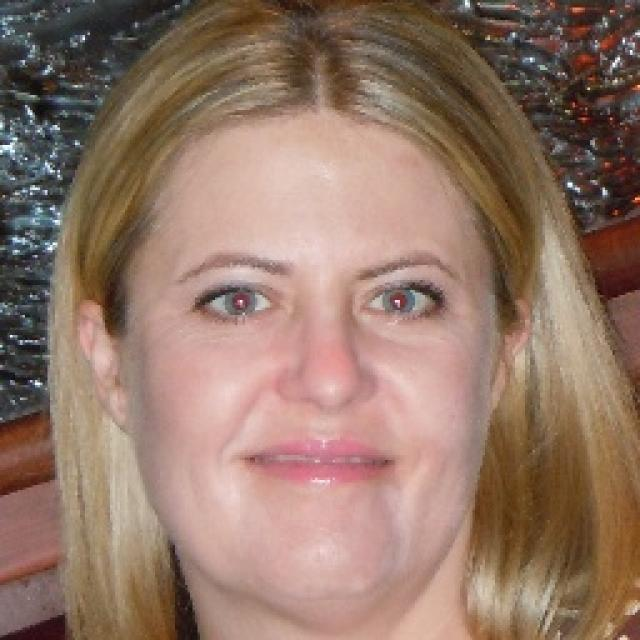earlobe: (98, 382, 133, 433), (487, 368, 509, 418)
eye: (193, 288, 277, 316), (370, 288, 448, 318)
nose: (279, 392, 368, 438)
wholeear: (73, 298, 133, 433), (487, 299, 533, 417)
